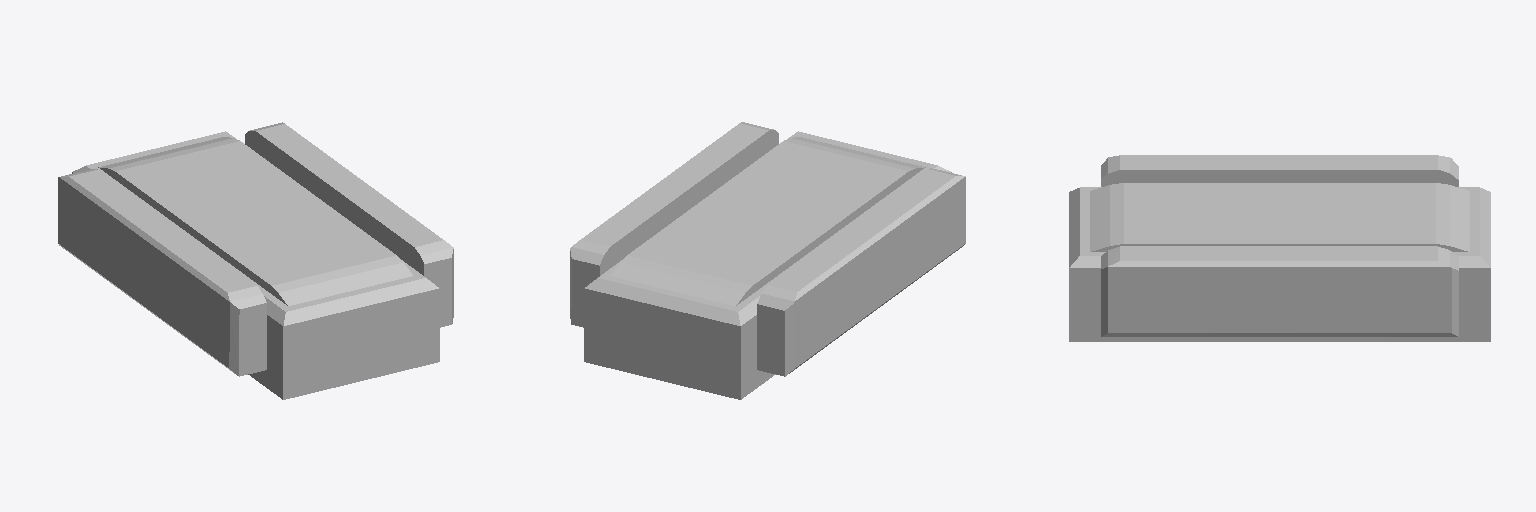
The model's file is baza.obj.
The picture shows the model from 3 angles: view 1: azimuth 30°, elevation 25°; view 2: azimuth 150°, elevation 25°; view 3: azimuth 270°, elevation 25°; orthographic projection.
Visible parts, largest first — view 1: baza_Cyberpunk_Sci_Fi_Panels; view 2: baza_Cyberpunk_Sci_Fi_Panels; view 3: baza_Cyberpunk_Sci_Fi_Panels.
Boxes of the visible parts, x1,y1,x2,y2 form: baza_Cyberpunk_Sci_Fi_Panels: [58, 122, 453, 399]; baza_Cyberpunk_Sci_Fi_Panels: [570, 122, 965, 399]; baza_Cyberpunk_Sci_Fi_Panels: [1069, 155, 1490, 341].
Bounding box in the file's own units: 1.43 × 0.5826 × 2.32.